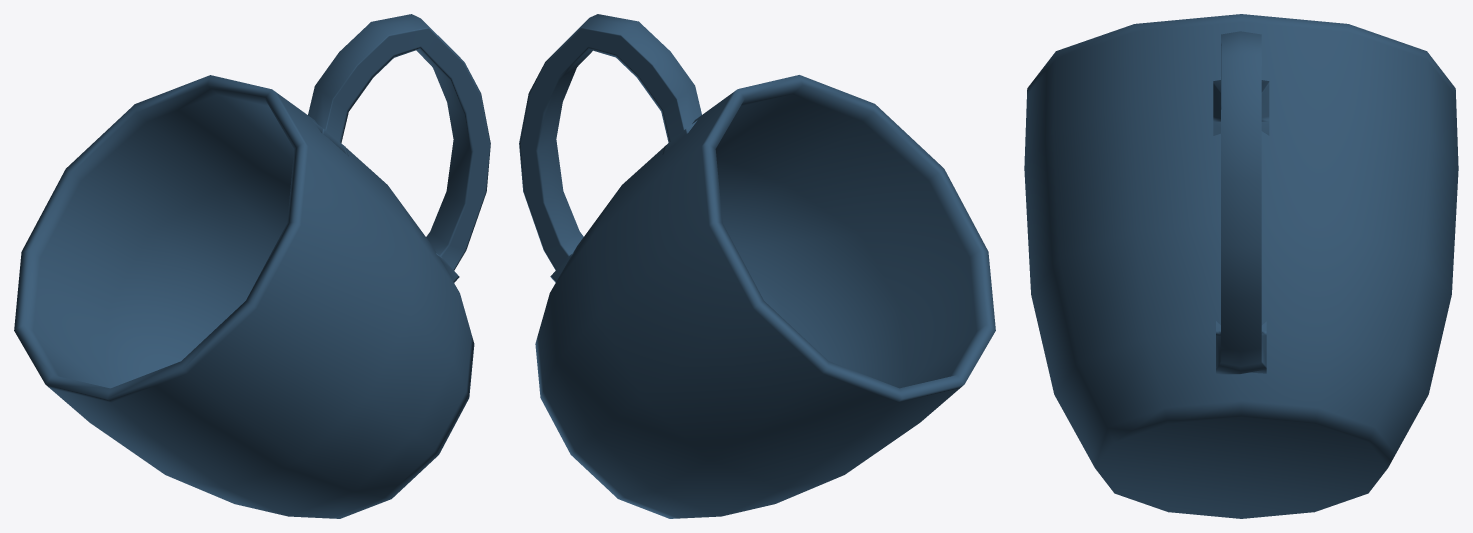
Rendered from Kitchen_set_Kitchen_set_Kitchen_set_Props_grp_Kitchen_set_North_grp_Kitchen_set_NorthWall_grp_Kitchen_set_CupCBlue_1.obj.
3 renders of one model, left to right at view 1: azimuth 30°, elevation 25°; view 2: azimuth 150°, elevation 25°; view 3: azimuth 270°, elevation 25°, orthographic. The views are drawn at different scales.
Parts seen in each view (by area): view 1: Kitchen_set_Cup1 NCCA_Export; view 2: Kitchen_set_Cup1 NCCA_Export; view 3: Kitchen_set_Cup1 NCCA_Export.
Part boxes in pixels (left/top/right/bottom): Kitchen_set_Cup1 NCCA_Export: left=14, top=14, right=490, bottom=518; Kitchen_set_Cup1 NCCA_Export: left=519, top=14, right=995, bottom=518; Kitchen_set_Cup1 NCCA_Export: left=1024, top=14, right=1458, bottom=518.
Size of the model in its own units: 0.9889 by 1 by 0.7379.
